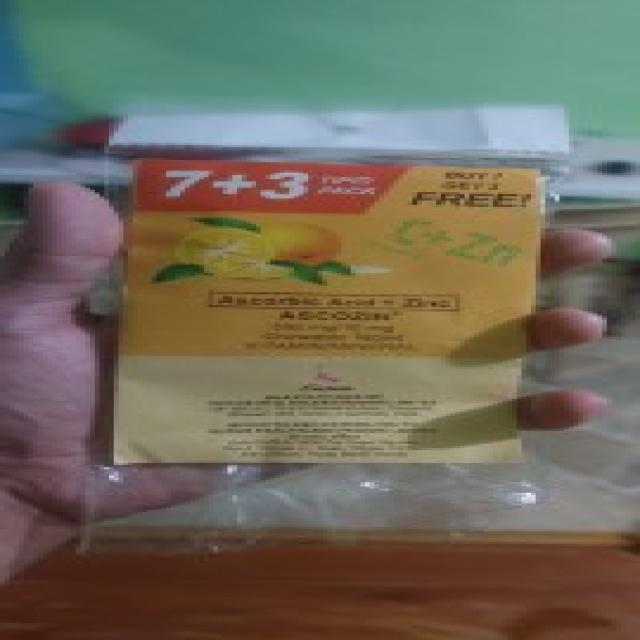Cacat: (109, 105, 569, 548)
